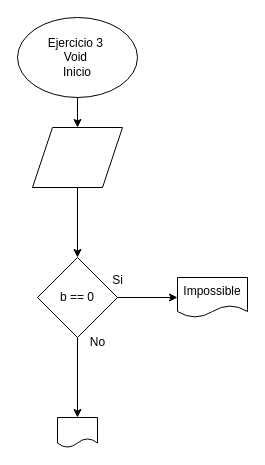
Image size: 265x465. Some labels were removed from this diagram. Each missing label, with the centre of its shape:
"a/b" belongs at pixel 77 432.
"int a, int b" belongs at pixel 77 157.
